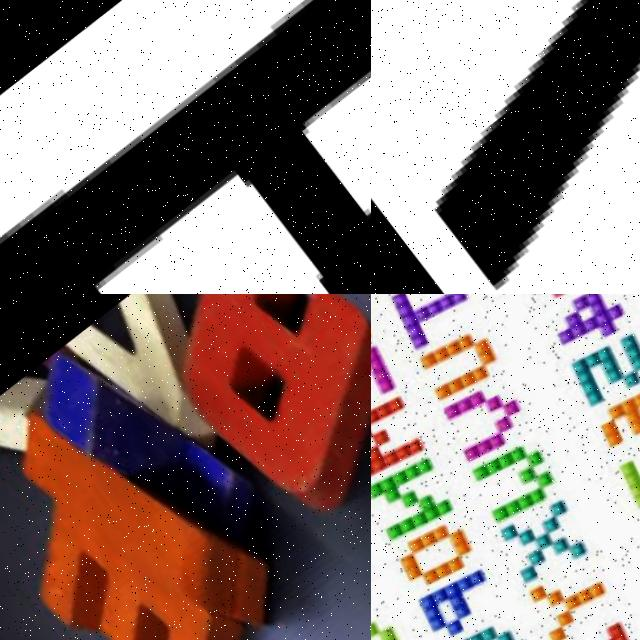3: (512, 294, 610, 317)
4: (533, 294, 635, 372)
5: (562, 323, 640, 419)
6: (582, 373, 640, 473)
7: (609, 426, 640, 522)
A: (129, 294, 371, 550)
E: (0, 462, 280, 640)
R: (0, 0, 371, 294)
